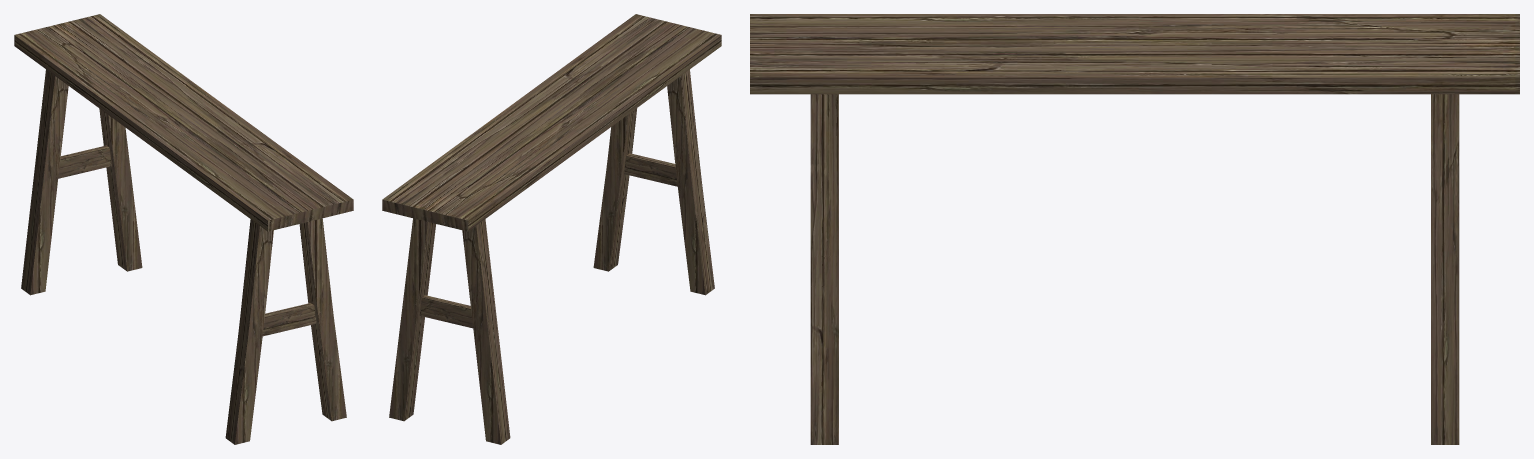
File: Chair1.fbx
3 views of the same model, side by side, from view 1: azimuth 30°, elevation 25°; view 2: azimuth 150°, elevation 25°; view 3: azimuth 270°, elevation 25° (orthographic). The views are drawn at different scales.
Parts seen in each view (by area): view 1: Chair1; view 2: Chair1; view 3: Chair1.
Part boxes in pixels (bbox=[...]): Chair1: bbox=[14, 14, 353, 444]; Chair1: bbox=[382, 14, 721, 444]; Chair1: bbox=[750, 14, 1519, 444].
Bounding box in the file's own units: 0.339 × 0.6813 × 1.33.
Materials: 1 (1 with a texture image).
